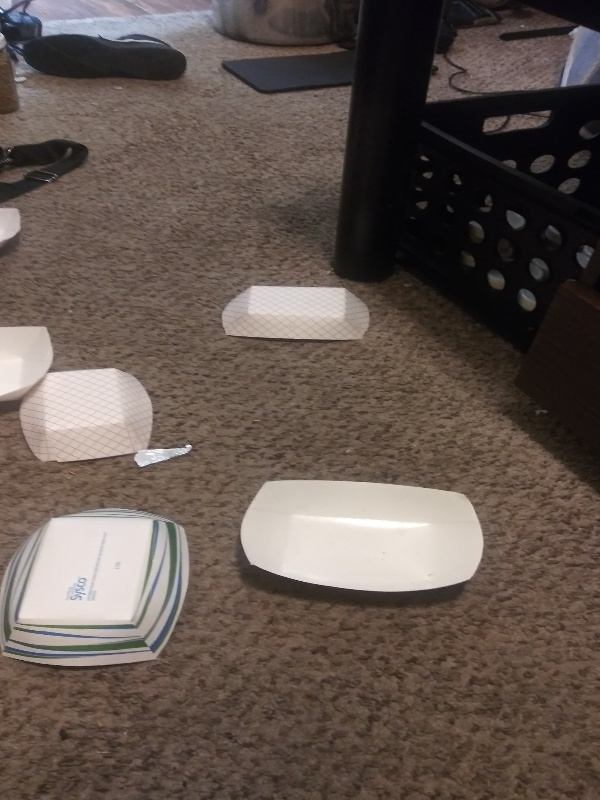plate: (233, 474, 489, 605), (1, 502, 193, 672), (14, 365, 161, 465), (219, 282, 372, 348), (1, 320, 53, 412), (1, 201, 23, 255)
